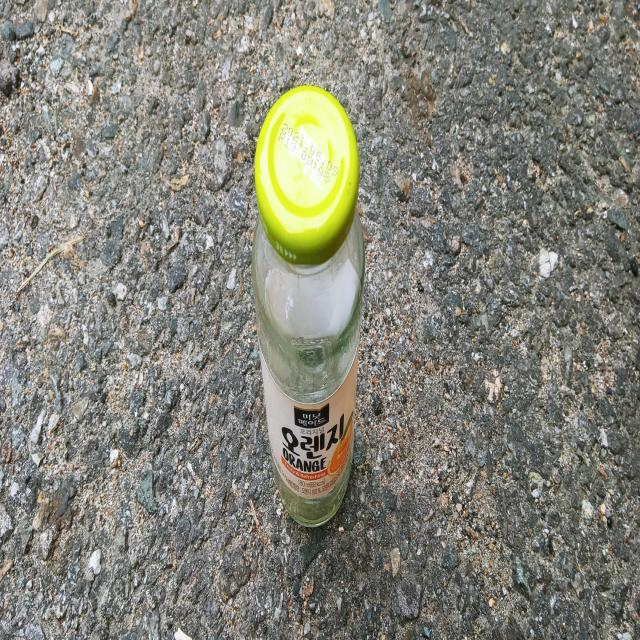glass: (252, 84, 365, 526)
